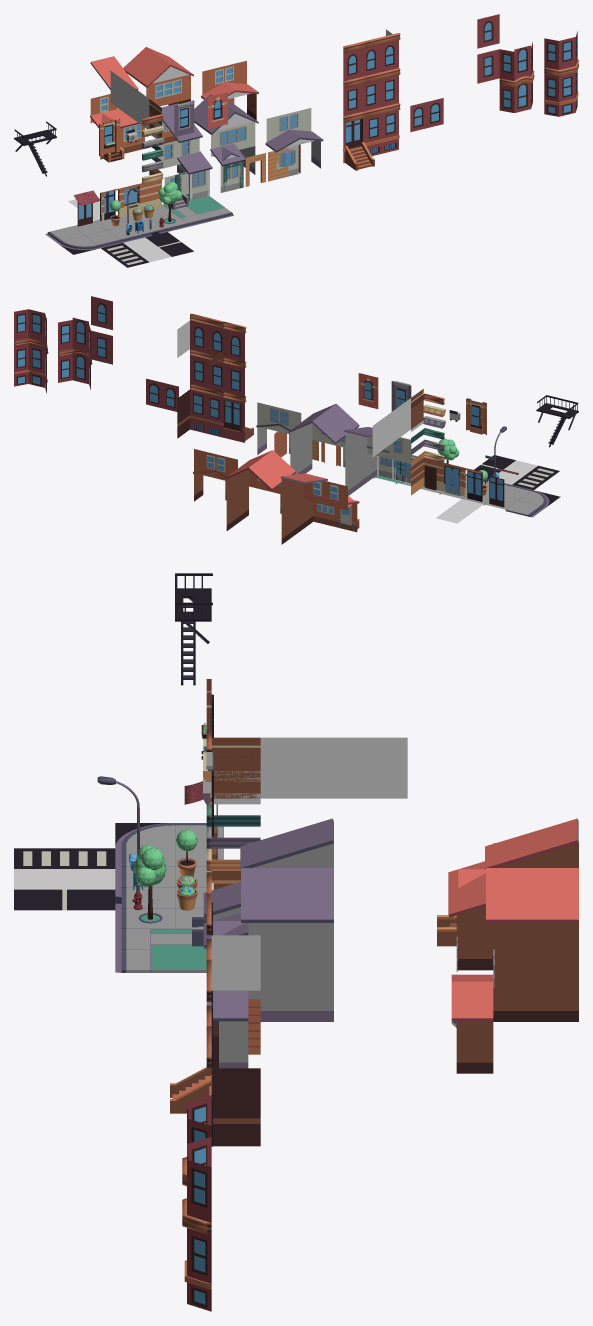
File: cat-finder.fbx
The picture shows the model from 3 angles, top to bottom: view 1: azimuth 30°, elevation 25°; view 2: azimuth 150°, elevation 25°; view 3: azimuth 270°, elevation 25°; orthographic projection. The views are drawn at different scales.
Parts seen in each view (by area): view 1: B2.Floor.Red.2, B2.Floor.Red.1, Sidewalk.Corner.1, House.Floor.Roof.Red.2, B2.Floor.Red.3b, House.Floor.Orange.2, B2.Floor.Red.4b, House.Floor.Purple.3, House.Floor.Purple.2, House.Floor.Orange.3, B2.Base.Red.2, B2.Base.Red.3 (+42 smaller); view 2: B2.Floor.Red.2, B2.Floor.Red.1, House.Base.Orange.TallSide.1, Sidewalk.Corner.1, House.Base.White.TallSide.1, House.Floor.Roof.Purple.2, House.Floor.Roof.Red.2, House.Base.Orange.TallSide.2, House.Base.White.TallSide.2, B2.Floor.Red.3b, House.Floor.Orange.3, B2.Floor.Red.4b (+36 smaller); view 3: House.Base.Orange.TallSide.2, House.Base.White.TallSide.2, House.Floor.Roof.Purple.2, House.Floor.Roof.Red.2, B2.Floor.Red.Side.001, Base.Green.1.Side, Floor.Purple.1.Side, Floor.Red.1.Side, Sidewalk.Corner.1, Floor.Yellow.1.Side, B2.Floor.Red.Side, House.Floor.Roof.Purple.1 (+23 smaller).
Part boxes in pixels (left/top/right/bottom): B2.Floor.Red.2: left=343, top=40, right=398, bottom=81; B2.Floor.Red.1: left=343, top=75, right=398, bottom=116; Sidewalk.Corner.1: left=45, top=221, right=122, bottom=254; House.Floor.Roof.Red.2: left=123, top=47, right=193, bottom=87; B2.Floor.Red.3b: left=499, top=42, right=532, bottom=80; House.Floor.Orange.2: left=146, top=74, right=190, bottom=106; B2.Floor.Red.4b: left=544, top=31, right=577, bottom=69; House.Floor.Purple.3: left=266, top=108, right=311, bottom=141; House.Floor.Purple.2: left=211, top=122, right=255, bottom=156; House.Floor.Orange.3: left=202, top=60, right=246, bottom=94; B2.Base.Red.2: left=410, top=98, right=443, bottom=132; B2.Base.Red.3: left=499, top=82, right=532, bottom=112; B2.Floor.Red.2: left=190, top=320, right=244, bottom=362; B2.Floor.Red.1: left=190, top=355, right=244, bottom=396; House.Base.Orange.TallSide.1: left=281, top=478, right=303, bottom=544; Sidewalk.Corner.1: left=483, top=485, right=560, bottom=517; House.Base.White.TallSide.1: left=345, top=432, right=367, bottom=495; House.Floor.Roof.Purple.2: left=289, top=403, right=359, bottom=443; House.Floor.Roof.Red.2: left=225, top=450, right=295, bottom=490; House.Base.Orange.TallSide.2: left=226, top=469, right=248, bottom=530; House.Base.White.TallSide.2: left=290, top=423, right=312, bottom=474; B2.Floor.Red.3b: left=58, top=317, right=90, bottom=358; House.Floor.Orange.3: left=194, top=449, right=237, bottom=480; B2.Floor.Red.4b: left=14, top=309, right=46, bottom=347; House.Base.Orange.TallSide.2: left=493, top=923, right=578, bottom=1021; House.Base.White.TallSide.2: left=248, top=923, right=333, bottom=1021; House.Floor.Roof.Purple.2: left=241, top=868, right=333, bottom=922; House.Floor.Roof.Red.2: left=486, top=868, right=578, bottom=922; B2.Floor.Red.Side.001: left=211, top=1068, right=260, bottom=1146; Base.Green.1.Side: left=358, top=737, right=407, bottom=798; Floor.Purple.1.Side: left=260, top=737, right=309, bottom=798; Floor.Red.1.Side: left=309, top=737, right=358, bottom=798; Sidewalk.Corner.1: left=115, top=823, right=223, bottom=869; Floor.Yellow.1.Side: left=211, top=737, right=260, bottom=798; B2.Floor.Red.Side: left=211, top=935, right=260, bottom=990; House.Floor.Roof.Purple.1: left=240, top=818, right=333, bottom=869.
Bounding box in the file's own units: 5050 × 1012 × 2307.
